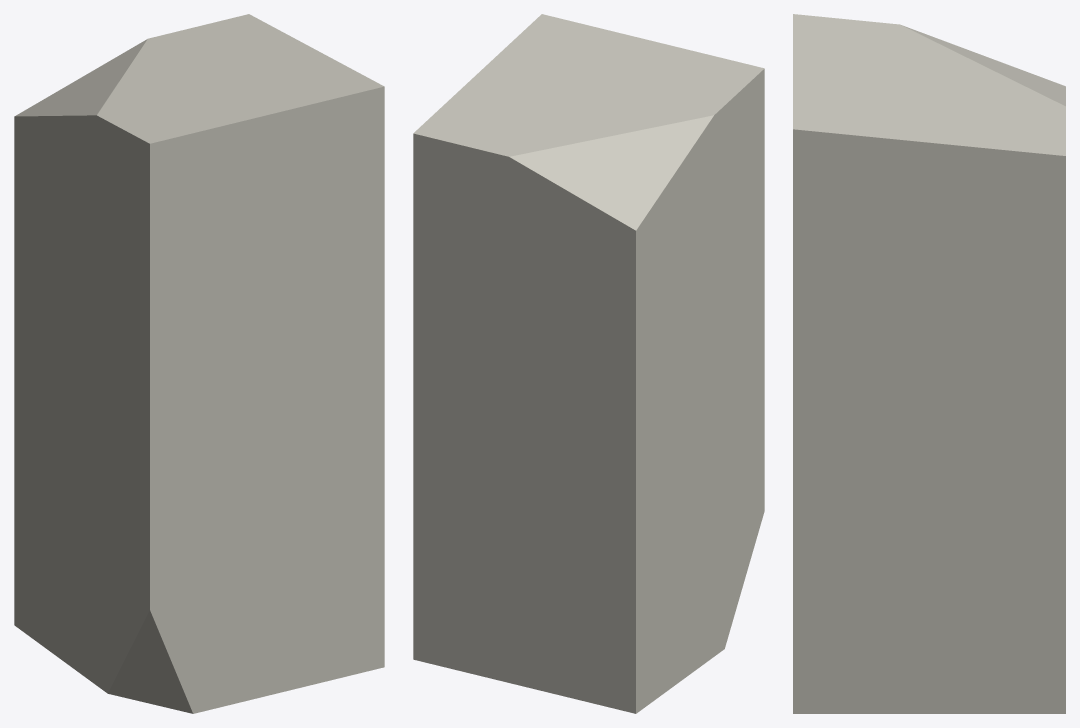
File: Rock_Square_m_11.fbx
3 views of the same model, side by side, from view 1: azimuth 30°, elevation 25°; view 2: azimuth 150°, elevation 25°; view 3: azimuth 270°, elevation 25° (orthographic). The views are drawn at different scales.
Parts seen in each view (by area): view 1: Rock_Square_m_11; view 2: Rock_Square_m_11; view 3: Rock_Square_m_11.
Part boxes in pixels (bbox=[...]): Rock_Square_m_11: bbox=[14, 14, 384, 713]; Rock_Square_m_11: bbox=[413, 14, 764, 713]; Rock_Square_m_11: bbox=[793, 14, 1065, 713].
Bounding box in the file's own units: 43.2 × 102 × 43.2.
